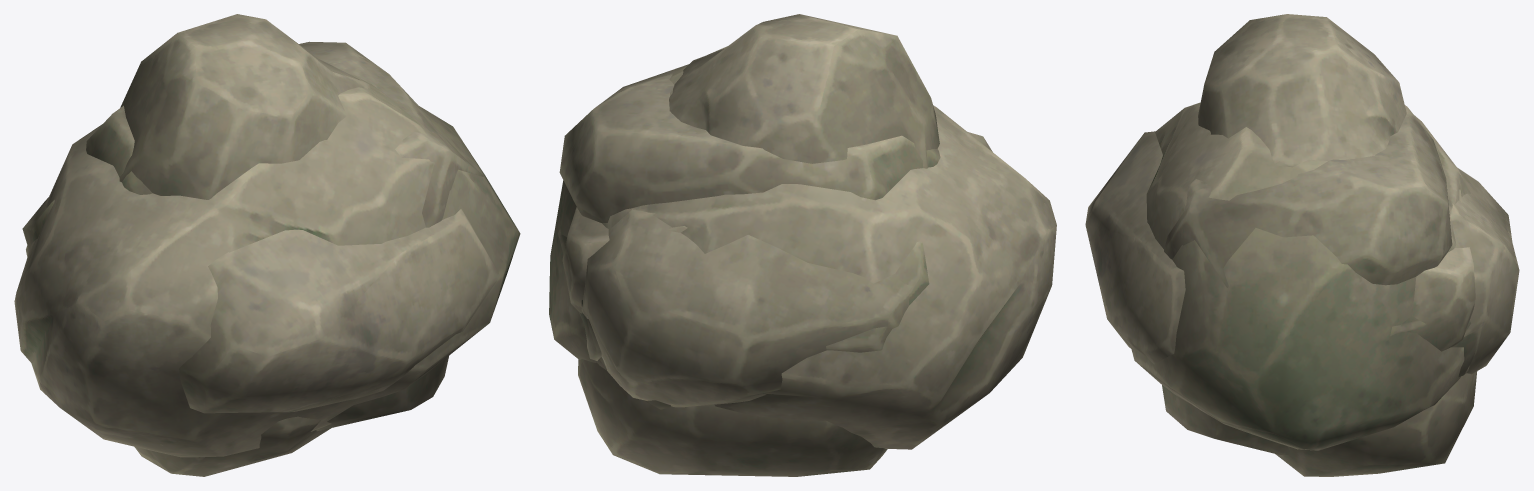
The model's file is rock02.fbx.
3 views of the same model, side by side, from view 1: azimuth 30°, elevation 25°; view 2: azimuth 150°, elevation 25°; view 3: azimuth 270°, elevation 25° (orthographic). The views are drawn at different scales.
Parts seen in each view (by area): view 1: rock_B_2, rock_B_1, rock_B_5, rock_B_3; view 2: rock_B_2, rock_B_5, rock_B_1, rock_B_3, rock_B_4, rock_B_6; view 3: rock_B_2, rock_B_5, rock_B_3, rock_B_1, rock_B_6, rock_B_4.
Part boxes in pixels (bbox=[...]): rock_B_2: bbox=[14, 74, 520, 457]; rock_B_1: bbox=[22, 197, 499, 413]; rock_B_5: bbox=[119, 14, 370, 476]; rock_B_3: bbox=[86, 41, 483, 445]; rock_B_2: bbox=[549, 46, 1056, 449]; rock_B_5: bbox=[578, 14, 939, 476]; rock_B_1: bbox=[581, 132, 992, 407]; rock_B_3: bbox=[559, 64, 940, 222]; rock_B_4: bbox=[558, 229, 929, 360]; rock_B_6: bbox=[562, 207, 687, 313]; rock_B_2: bbox=[1131, 102, 1470, 450]; rock_B_5: bbox=[1198, 14, 1477, 476]; rock_B_3: bbox=[1162, 105, 1452, 455]; rock_B_1: bbox=[1085, 131, 1519, 408]; rock_B_6: bbox=[1412, 189, 1475, 351]; rock_B_4: bbox=[1390, 315, 1482, 376].
Bounding box in the file's own units: 2.72 × 2.43 × 2.36.
